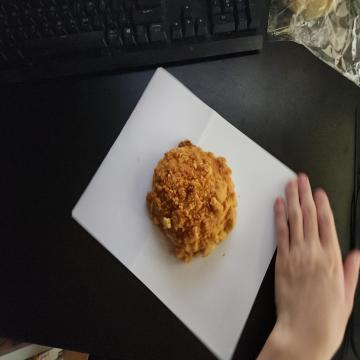soboru_bread: (143, 138, 237, 268)
